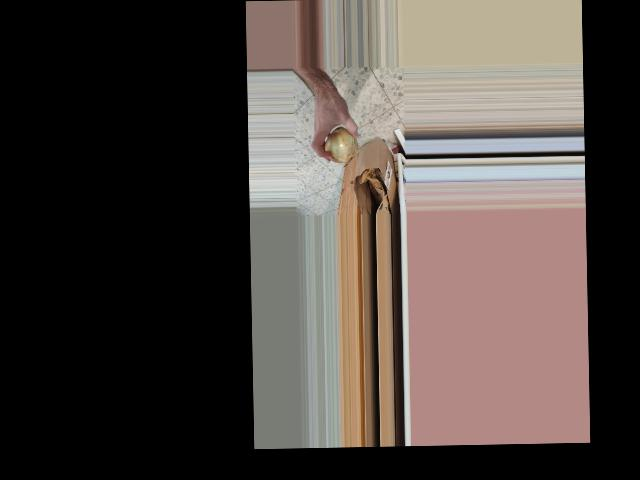onion: (322, 124, 358, 170)
